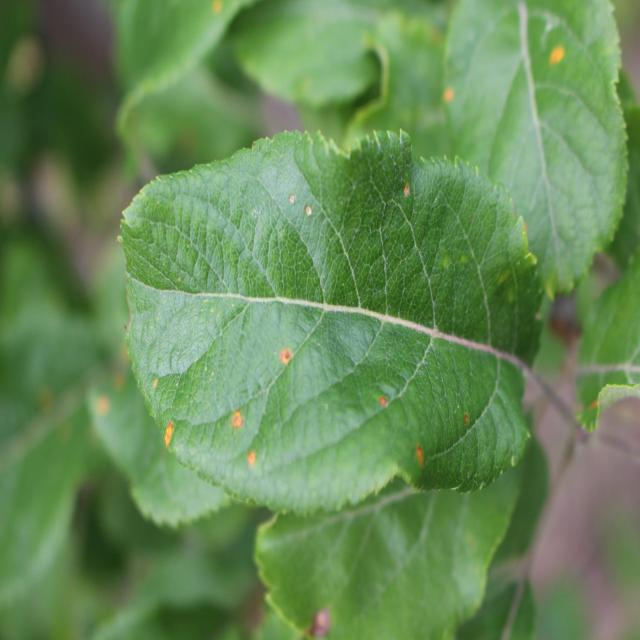Rust: (544, 31, 565, 79), (160, 416, 180, 460), (411, 430, 428, 479), (434, 81, 460, 112), (458, 404, 480, 436), (243, 446, 260, 476), (376, 388, 392, 416), (228, 404, 244, 431), (278, 344, 292, 370)
